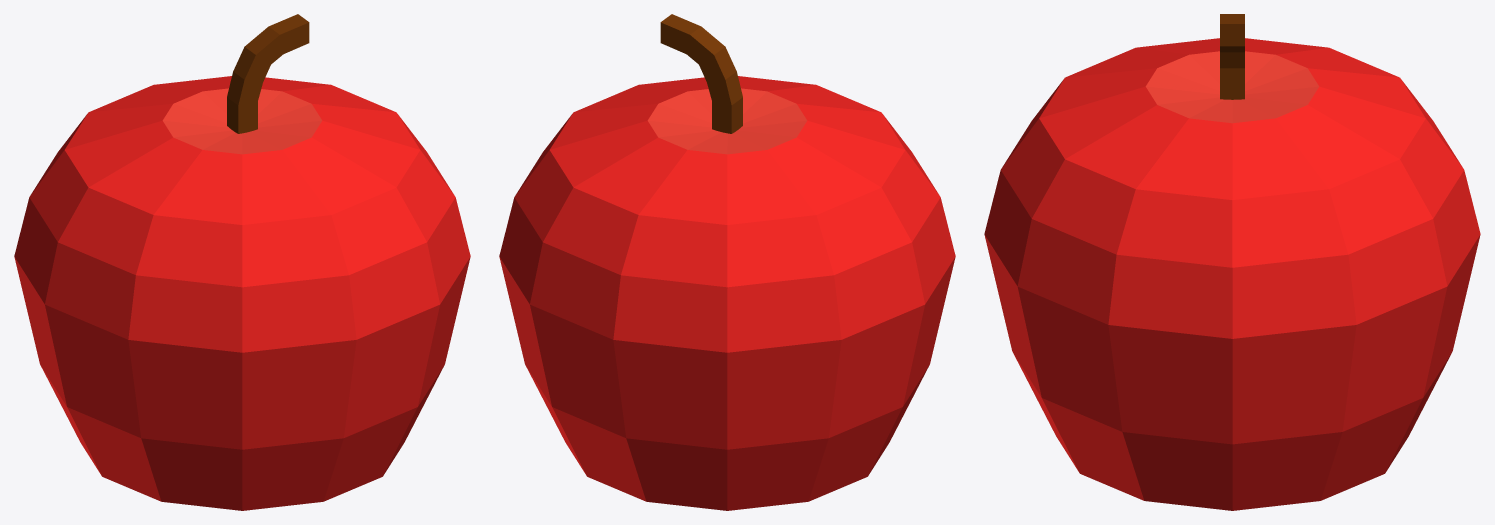
The model's file is Apple_01.fbx.
3 renders of one model, left to right at view 1: azimuth 30°, elevation 25°; view 2: azimuth 150°, elevation 25°; view 3: azimuth 270°, elevation 25°, orthographic. The views are drawn at different scales.
Visible parts, largest first — view 1: Apple_01; view 2: Apple_01; view 3: Apple_01.
Part boxes in pixels (bbox=[...]): Apple_01: bbox=[14, 14, 470, 510]; Apple_01: bbox=[499, 14, 955, 510]; Apple_01: bbox=[984, 14, 1480, 510].
Size of the model in its own units: 14 by 14.9 by 14.
Materials: 1 (1 with a texture image).
